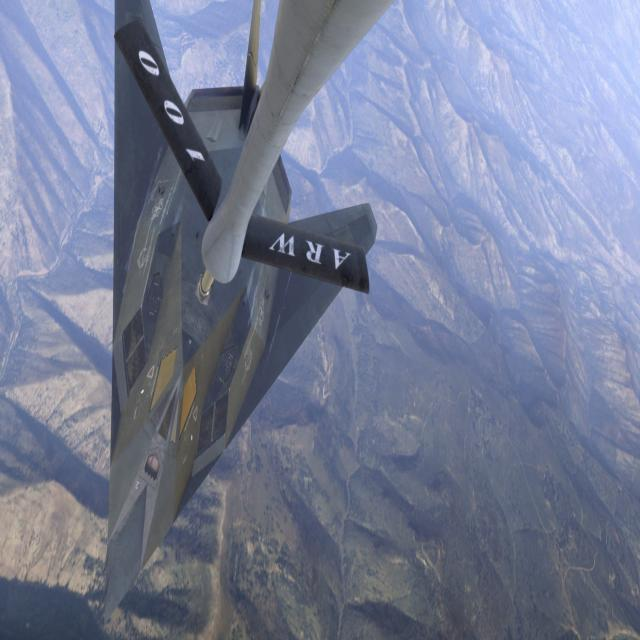MIL_Plane: (98, 1, 378, 624)
